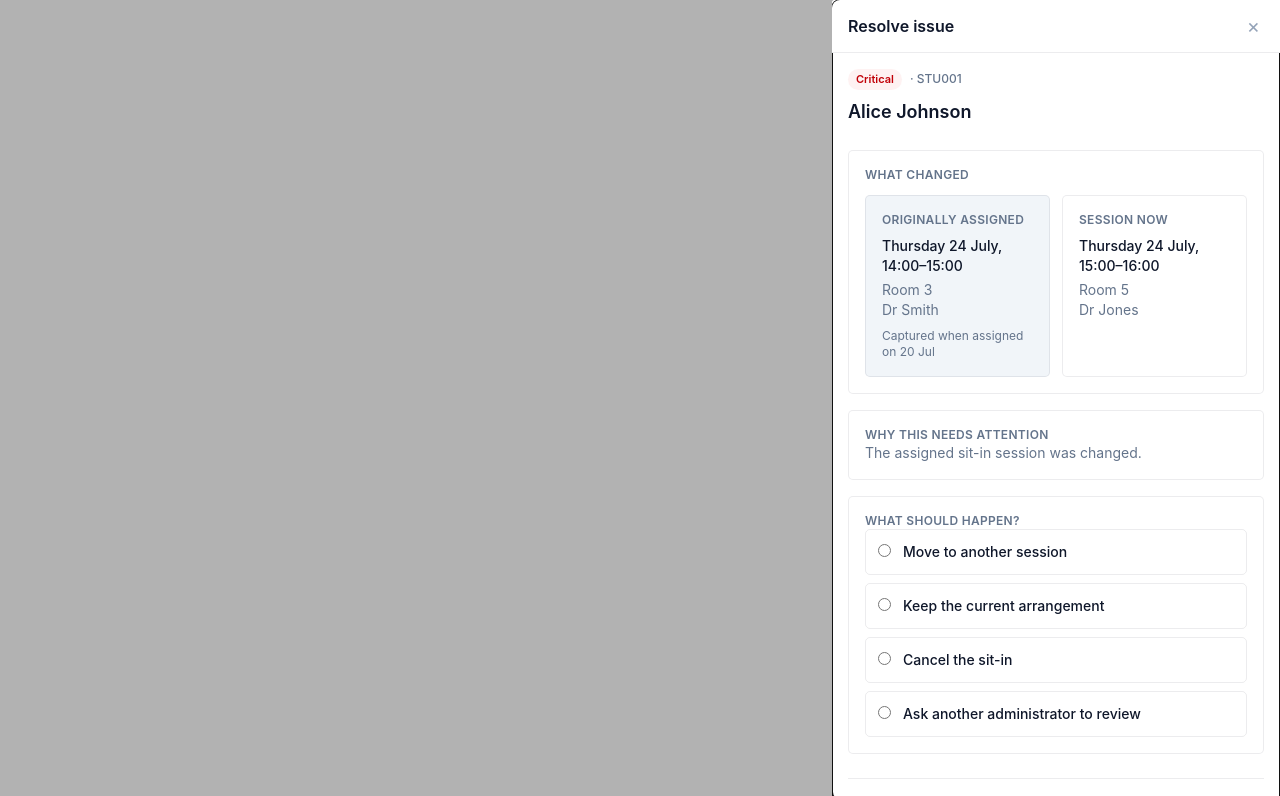
Test: IssueResolutionPanel notification UX › UI-NOTIF-008: resolution conflict refreshes without a success message
The width and height of the screenshot is (1280, 796).
Click the text "Keep the current arrangement".
click(1004, 605)  # box [903, 596, 1104, 614]
(page scrolled)
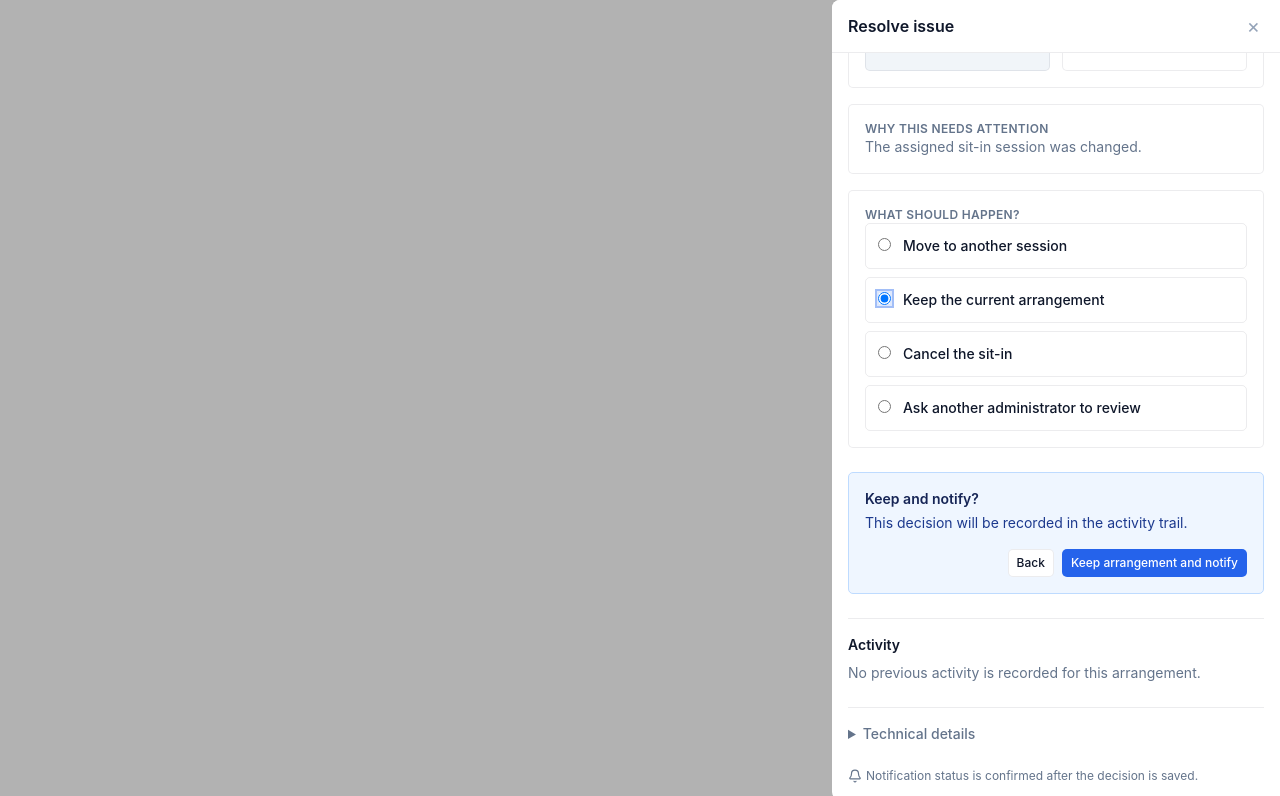
Click the button "Keep arrangement and notify".
click(1154, 562)  # box [1062, 548, 1247, 576]
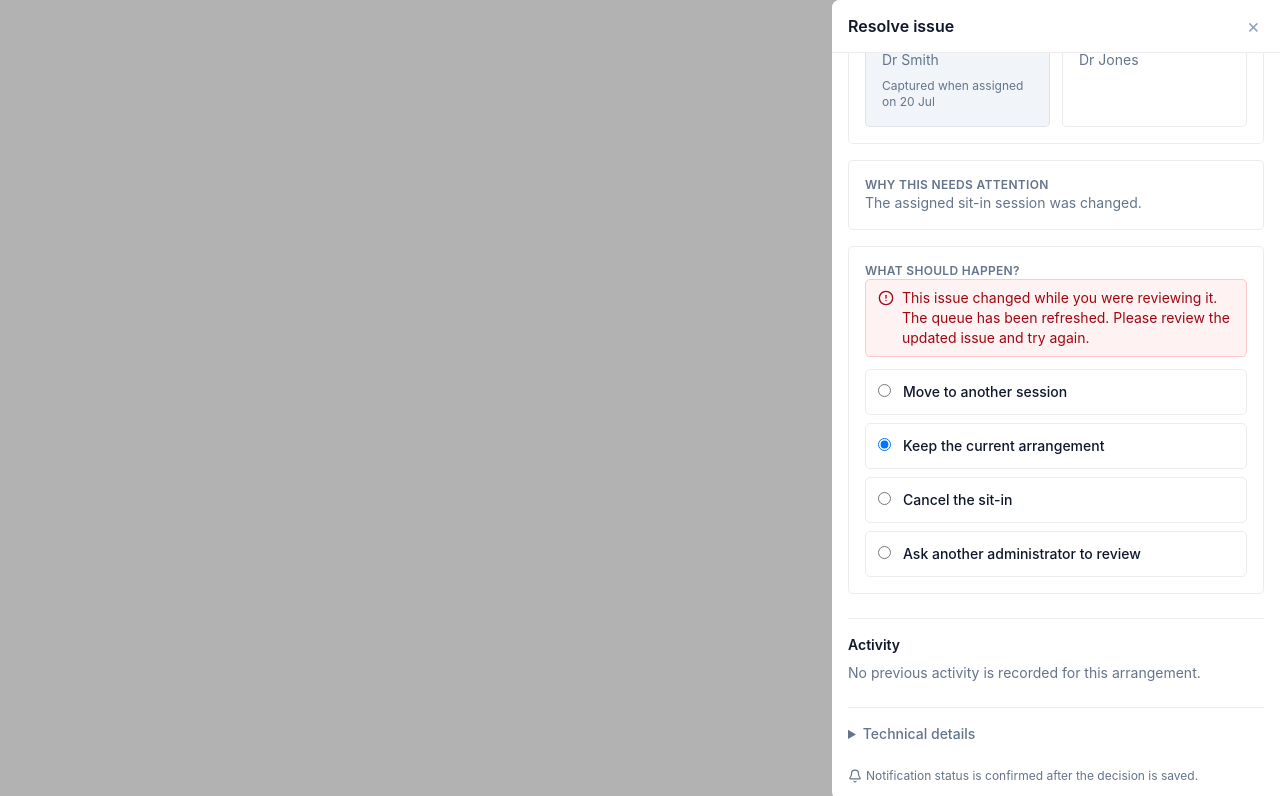
Expected: the message shows "This issue changed while you were reviewing it", [902, 288, 1230, 346]
